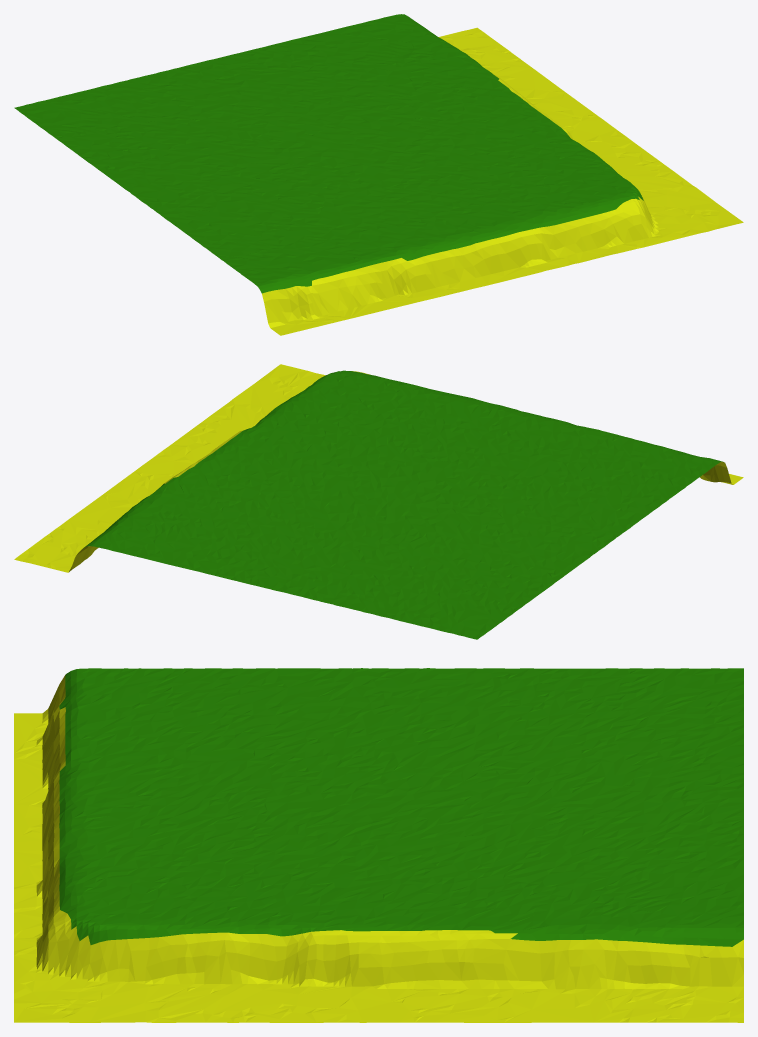
3 views of the same model, one above another, from view 1: azimuth 30°, elevation 25°; view 2: azimuth 150°, elevation 25°; view 3: azimuth 270°, elevation 25° (orthographic). The views are drawn at different scales.
Visible parts, largest first — view 1: TerrainVeryHigh.012; view 2: TerrainVeryHigh.012; view 3: TerrainVeryHigh.012.
Boxes of the visible parts, x1,y1,x2,y2 form: TerrainVeryHigh.012: (14, 14, 743, 335); TerrainVeryHigh.012: (14, 364, 743, 639); TerrainVeryHigh.012: (14, 668, 743, 1022).
Bounding box in the file's own units: 1253 × 1249 × 86.48.
